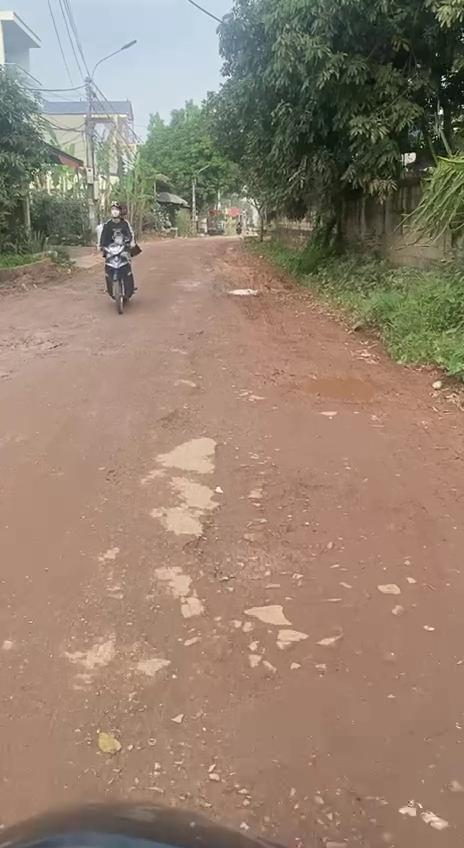pothole: (185, 499, 310, 606), (276, 365, 388, 406), (0, 332, 63, 356)
